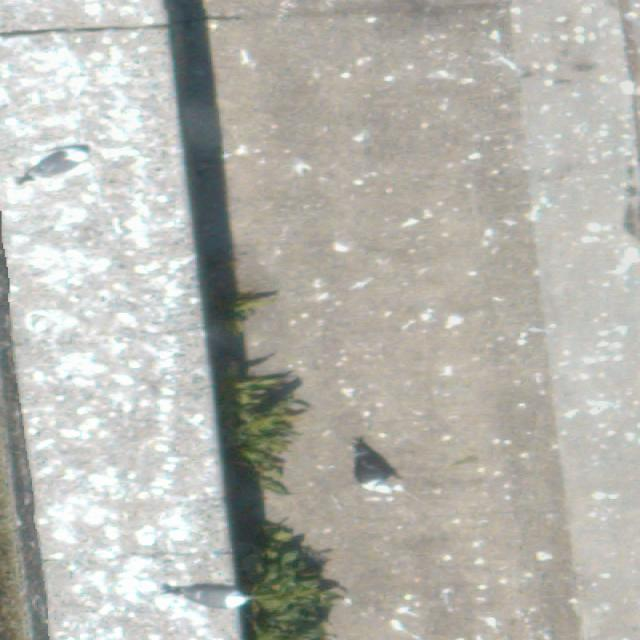umineko: (26, 146, 96, 186), (171, 582, 252, 610), (355, 447, 401, 494)
